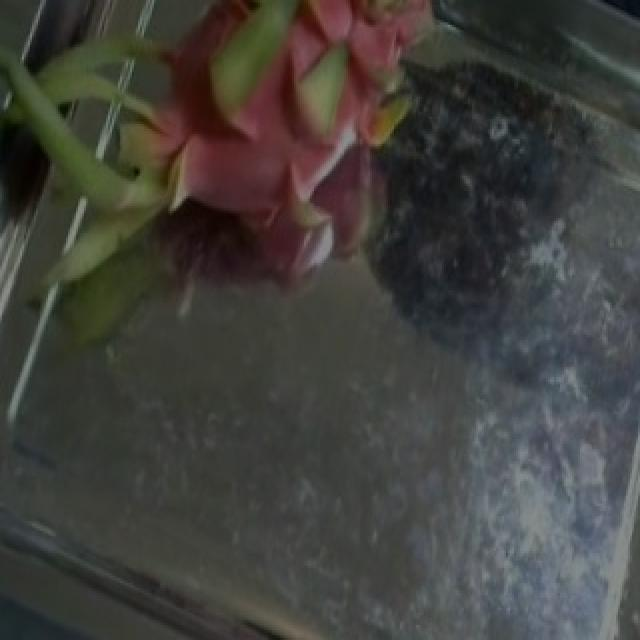fruit: (8, 0, 436, 382)
